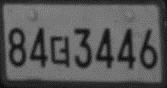3: (73, 27, 92, 69)
4: (28, 26, 49, 68), (94, 27, 115, 69), (117, 27, 137, 69)
6: (138, 27, 158, 69)
8: (7, 27, 27, 67)
더: (50, 35, 70, 68)
